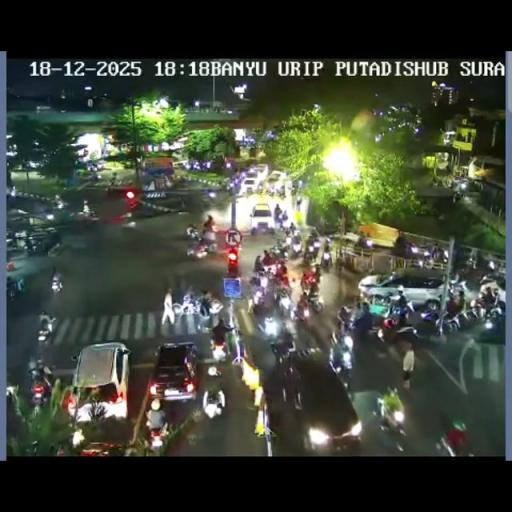Car: (68, 342, 130, 423), (358, 268, 474, 310), (148, 342, 198, 403), (248, 202, 274, 233), (78, 441, 124, 455), (239, 176, 262, 194), (266, 170, 286, 188), (250, 163, 268, 179)
Motorcycle: (248, 243, 330, 332), (309, 414, 365, 454), (376, 310, 418, 346), (372, 410, 406, 454), (200, 366, 227, 421), (331, 342, 354, 394), (27, 360, 53, 406), (436, 427, 473, 456), (282, 357, 302, 409), (4, 388, 26, 435), (198, 288, 222, 328), (416, 242, 449, 266), (269, 332, 295, 362), (299, 283, 323, 314), (251, 298, 272, 330), (272, 286, 294, 316), (352, 304, 374, 333), (147, 420, 168, 450), (440, 308, 464, 334), (418, 300, 442, 325), (176, 292, 202, 315), (337, 304, 356, 334), (482, 296, 504, 321), (194, 234, 218, 255), (60, 390, 78, 418), (210, 335, 228, 362), (6, 231, 28, 253), (454, 261, 477, 282), (478, 270, 502, 290), (24, 236, 47, 256), (46, 237, 69, 257), (393, 290, 409, 318), (37, 318, 54, 344), (73, 207, 99, 224), (200, 189, 223, 207), (304, 237, 321, 261), (272, 262, 290, 284), (250, 281, 266, 305), (399, 238, 418, 258), (268, 243, 289, 261), (286, 238, 302, 260), (50, 267, 63, 293), (354, 234, 375, 250), (319, 248, 332, 270), (273, 210, 288, 229), (6, 278, 18, 298), (226, 179, 241, 195), (342, 330, 354, 350), (41, 208, 57, 222), (290, 179, 302, 197), (53, 194, 67, 209), (202, 214, 214, 230), (254, 254, 264, 273), (186, 226, 200, 239), (288, 223, 300, 238), (312, 263, 322, 281), (122, 216, 137, 228), (485, 260, 496, 274), (7, 187, 16, 203), (452, 189, 462, 203), (276, 186, 286, 199), (16, 278, 25, 292), (90, 171, 100, 181), (296, 195, 302, 210), (109, 175, 117, 186)
